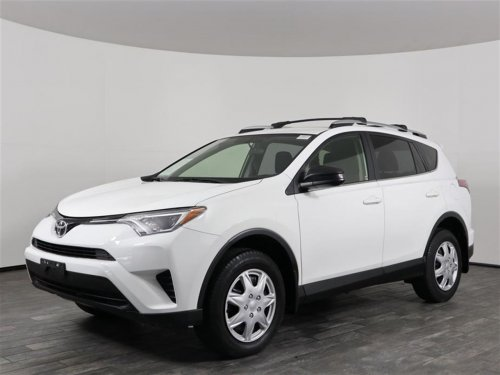Toyota RAV-4: (23, 122, 475, 358)
